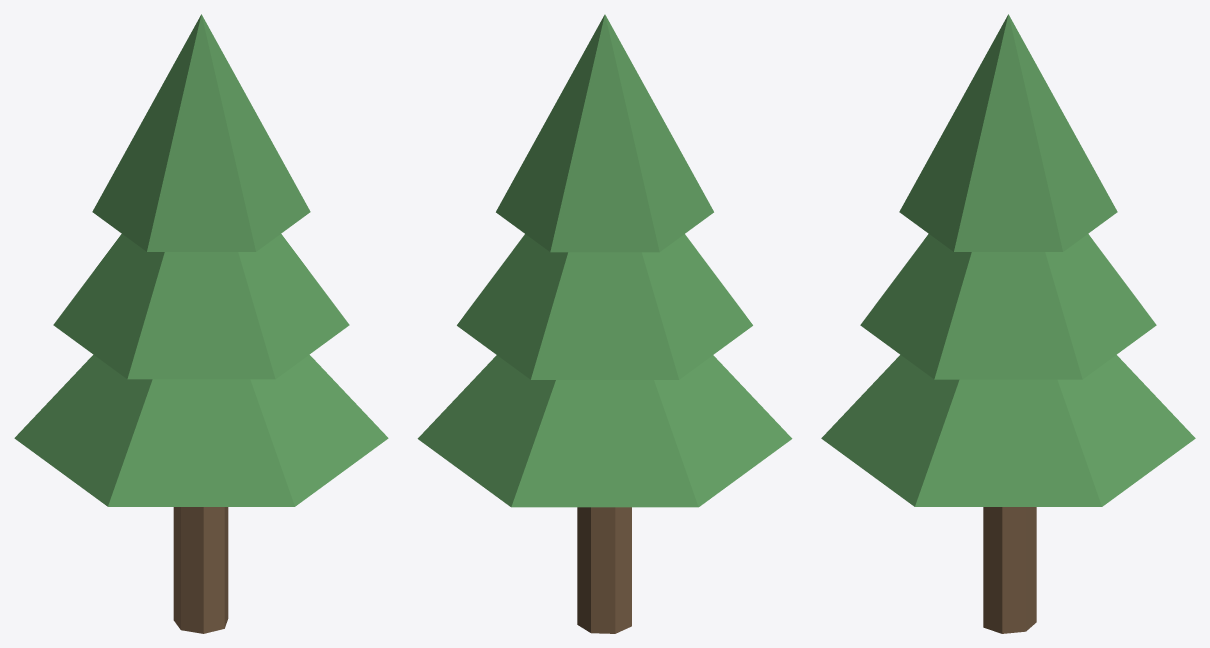
File: tree.glb
3 renders of one model, left to right at view 1: azimuth 30°, elevation 25°; view 2: azimuth 150°, elevation 25°; view 3: azimuth 270°, elevation 25°, orthographic.
Visible parts, largest first — view 1: PrimitiveTree; view 2: PrimitiveTree; view 3: PrimitiveTree.
Boxes of the visible parts, box(x1,y1,x2,y2) form: PrimitiveTree: box(14, 14, 388, 633); PrimitiveTree: box(417, 14, 792, 633); PrimitiveTree: box(821, 14, 1195, 633).
Size of the model in its own units: 2.08 by 4.3 by 2.4.
